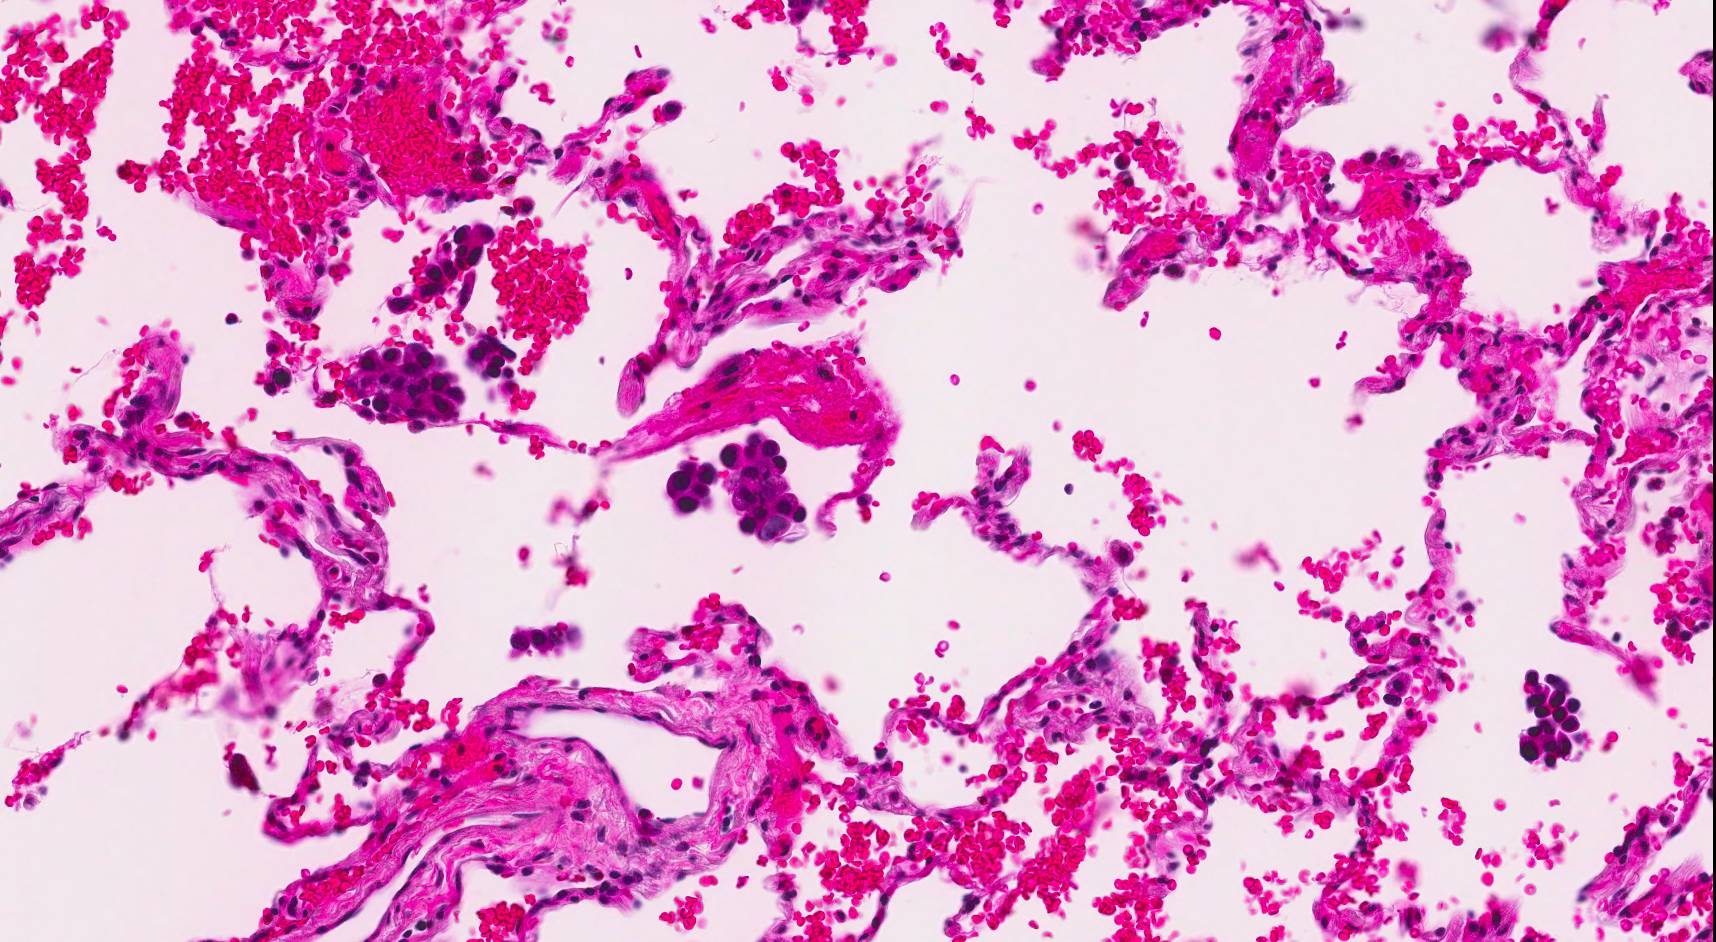stas: (382, 221, 500, 318), (718, 431, 814, 545), (344, 341, 469, 428), (1518, 666, 1586, 776), (506, 620, 591, 666), (665, 456, 722, 517), (465, 332, 520, 383)
